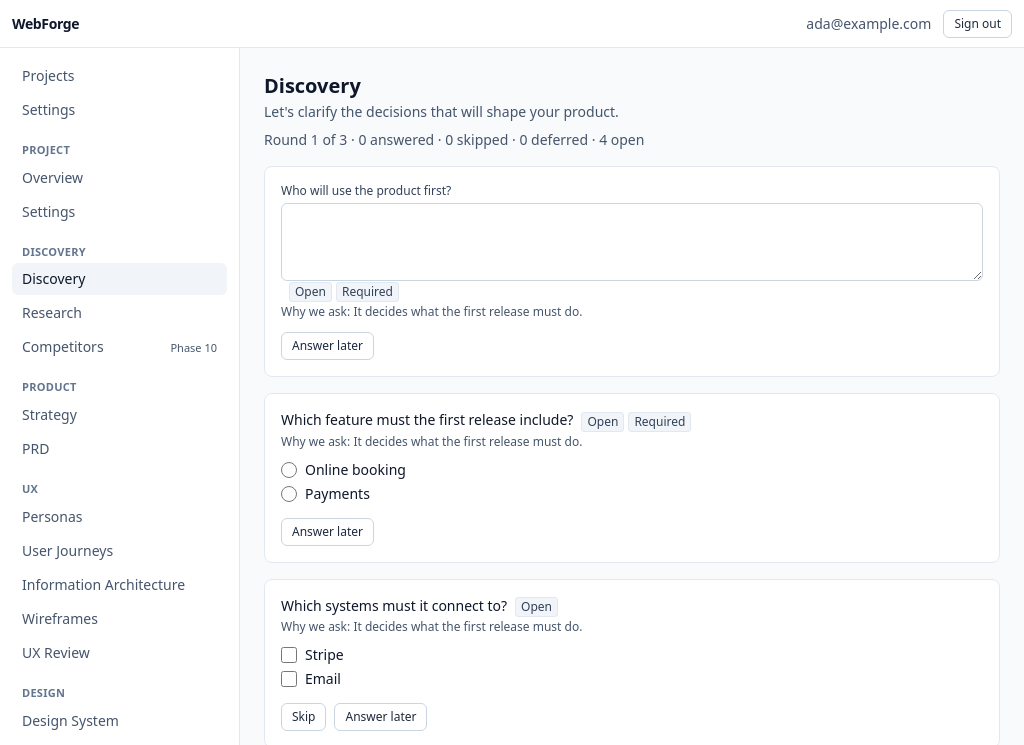
Scenario: rendering and answering › offers skip only for optional questions and answer-later for all, via the API
Check: the heading "Discovery" is shown, box [264,72,361,99]
Check: the button with aria-label "Answer later: Who will use" is shown, box [281,332,374,360]
Step 1. Click the button with aria-label "Skip: Which systems" → (304, 717), box [281,703,326,731]
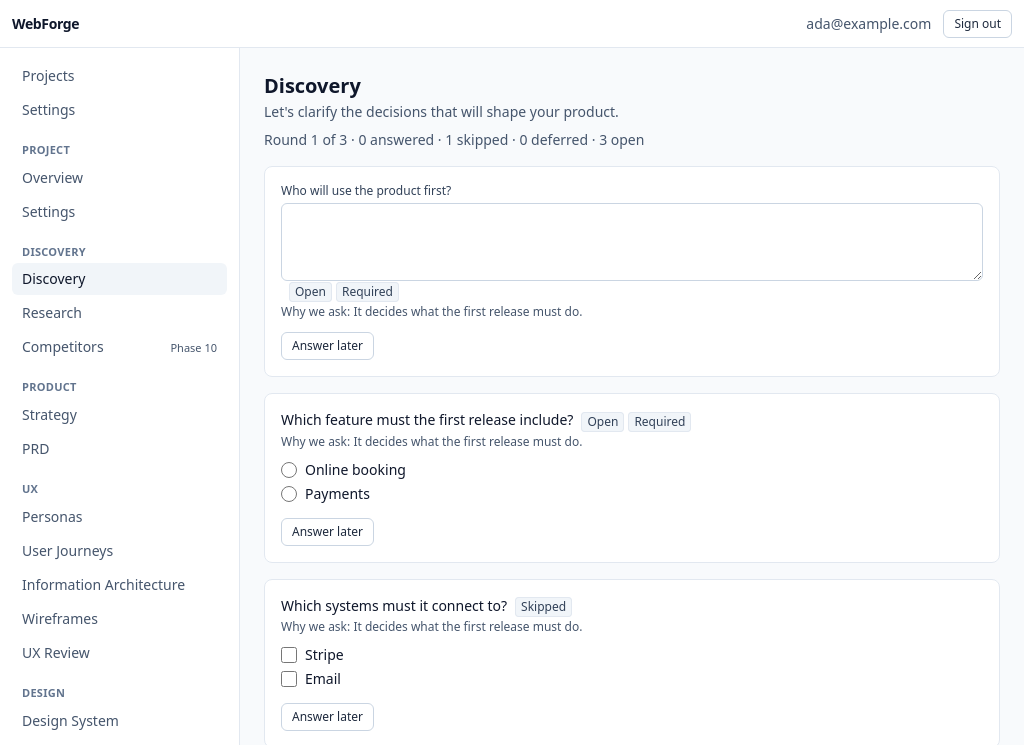
Check: the text named "Discovery progress" shows "1 skipped", box [264,130,644,149]
Step 2. Click the button with aria-label "Answer later: Which feature" → (328, 532), box [281,518,374,546]
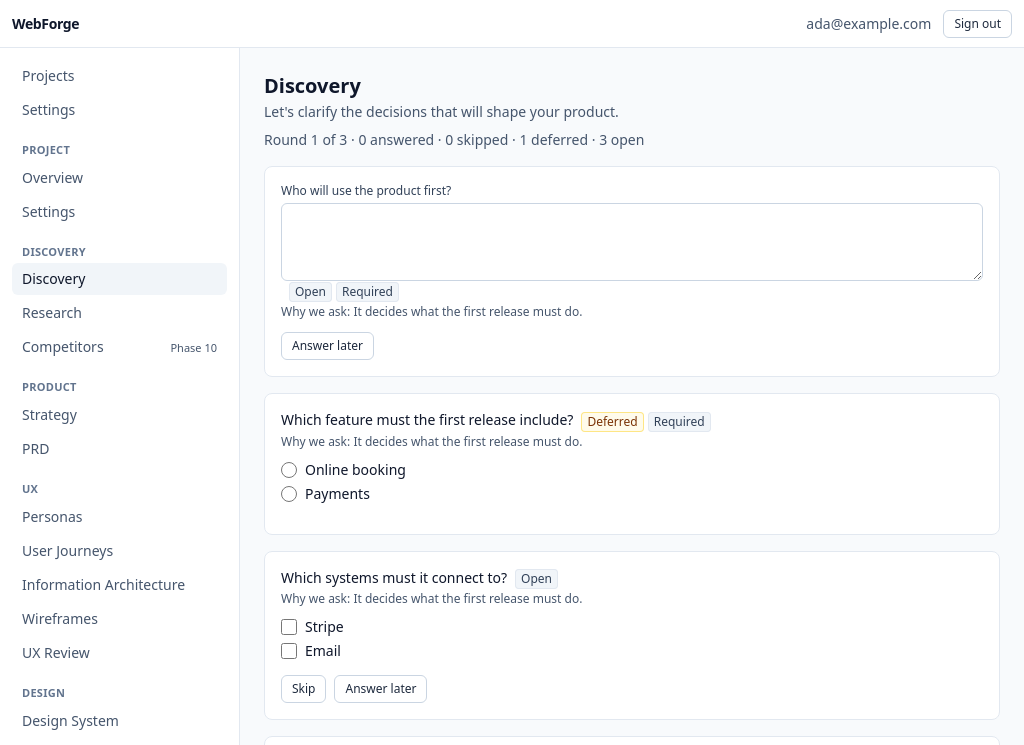
Check: the text named "Discovery progress" shows "1 deferred", box [264,130,644,149]
